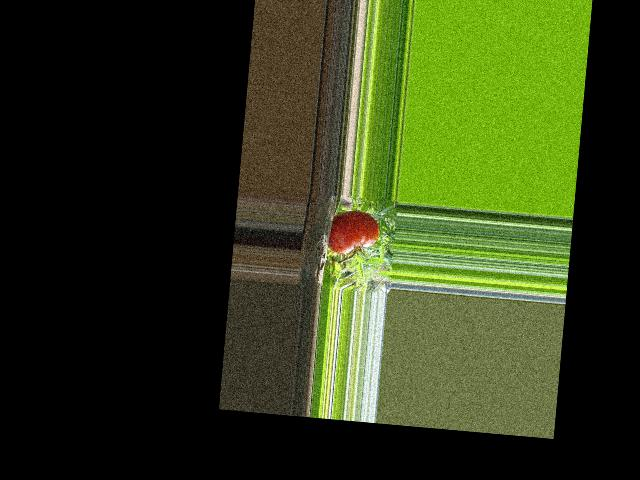tomato: (327, 209, 381, 257)
